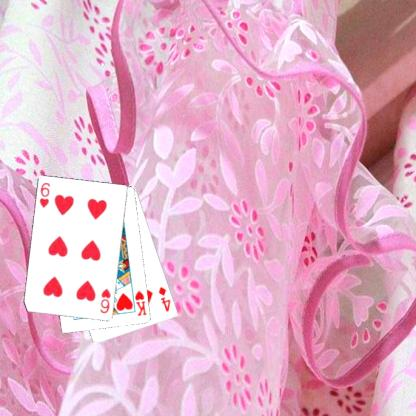4D: (156, 284, 172, 313)
6H: (37, 180, 52, 209), (98, 286, 112, 315)
KH: (132, 288, 148, 317)
